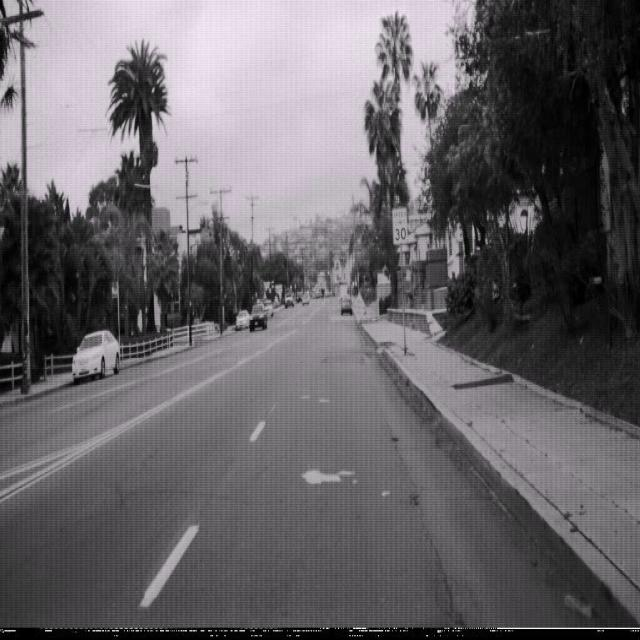speedLimit30: (391, 205, 409, 246)
